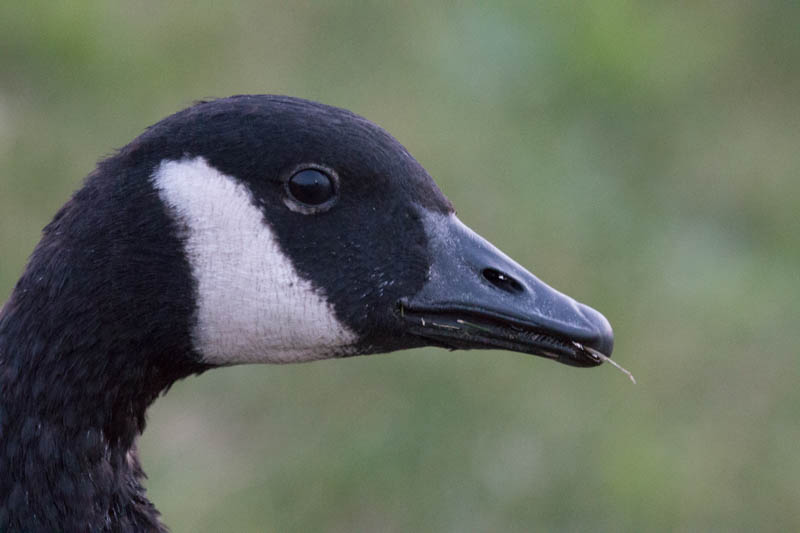goose-head: (91, 93, 614, 368)
